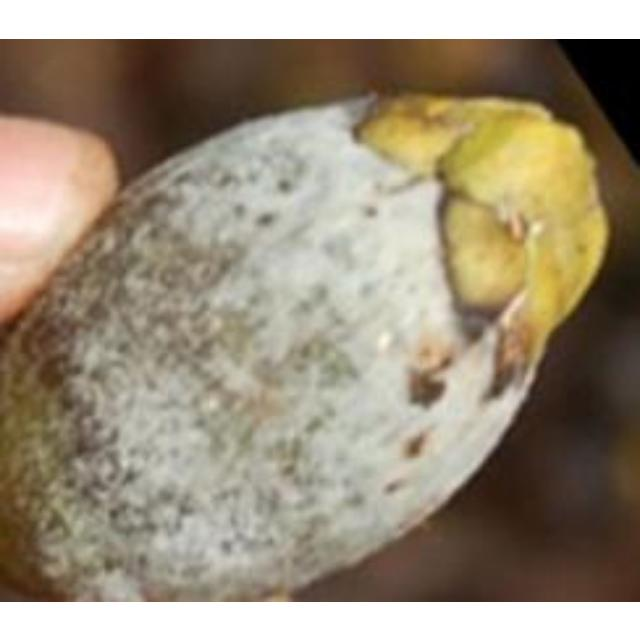damaged: (0, 93, 614, 599)
